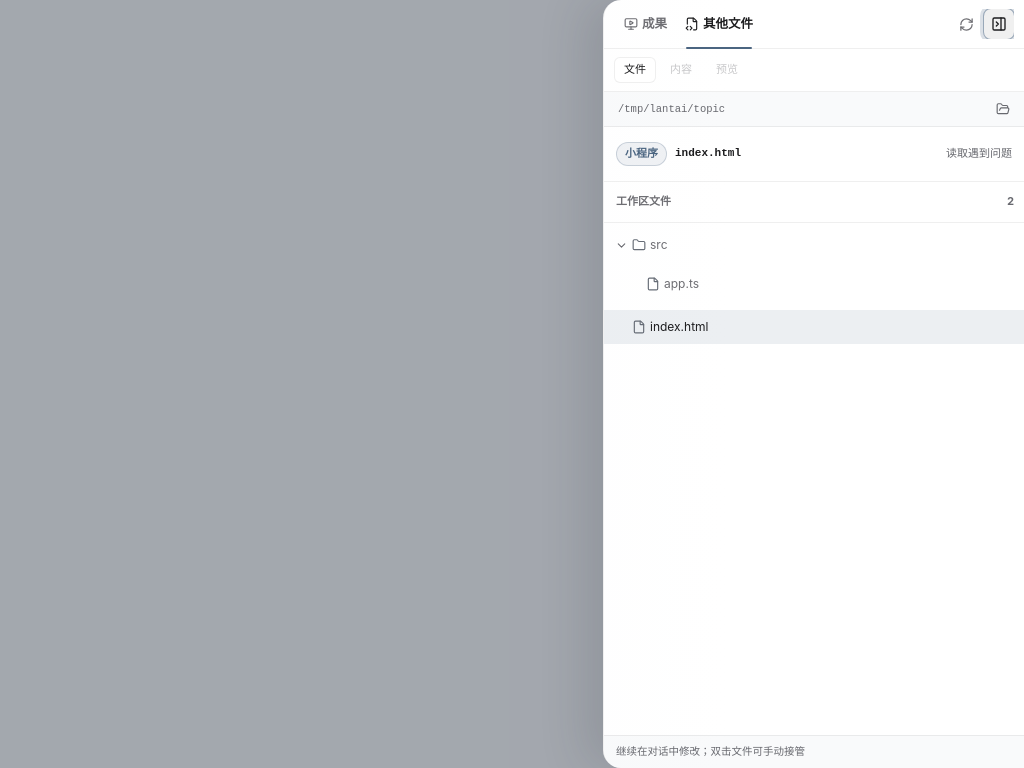
ChatArtifactPanel › does not present a missing file as a verified deliverable
Click the button "成果" at (646, 24), box [616, 0, 675, 48]
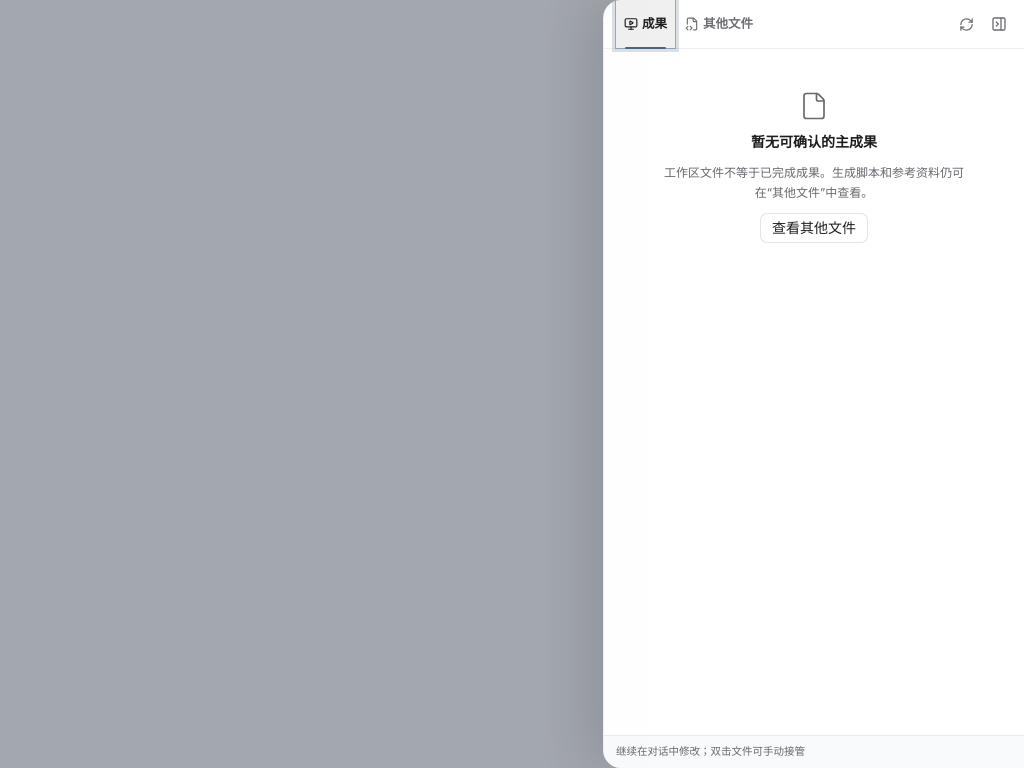
Expected: the text "暂无可确认的主成果" is shown, [751, 131, 877, 153]
